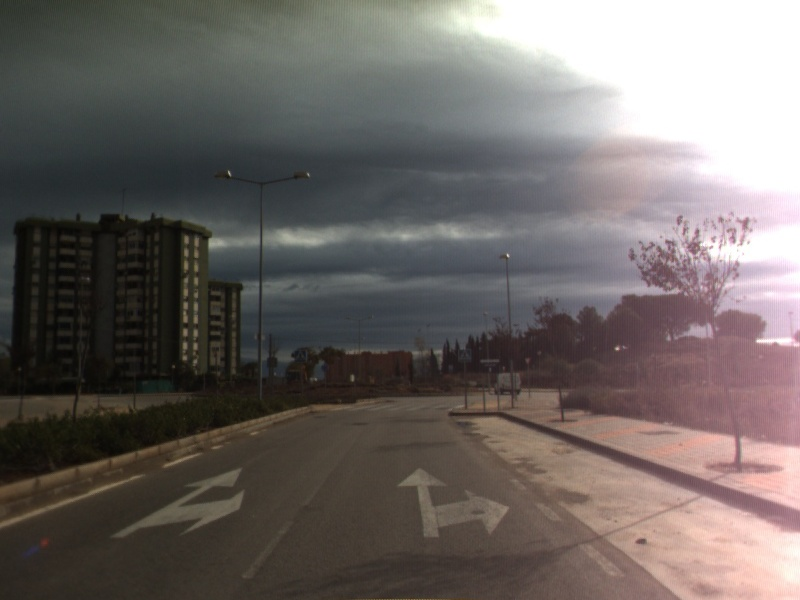STRAIGHT_RIGHT: (107, 465, 248, 541), (395, 465, 512, 540)
